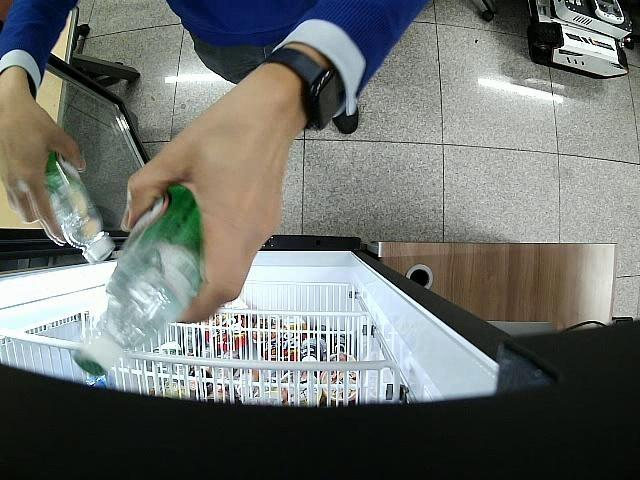18_trevi: (75, 182, 206, 377), (46, 150, 116, 264)
